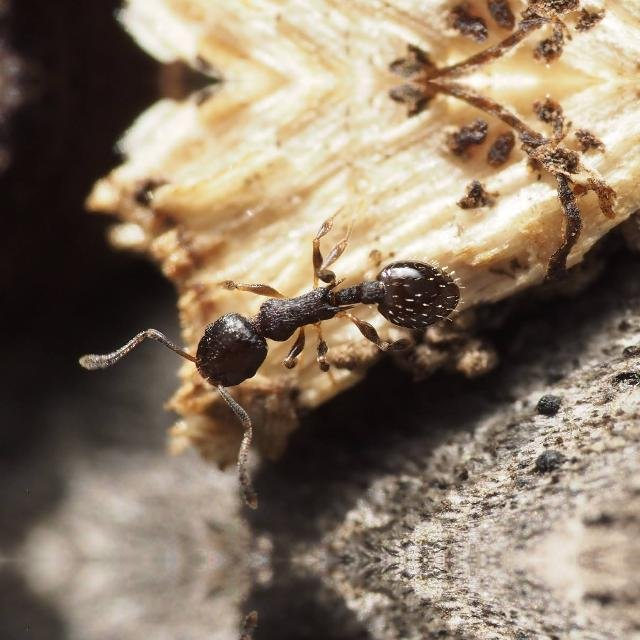Temnothorax: (124, 192, 508, 470)
